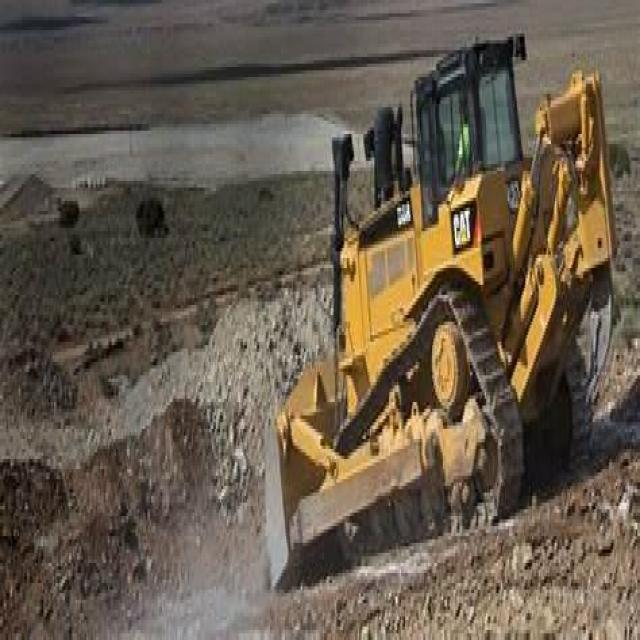Bulldozer: (230, 14, 630, 624)
